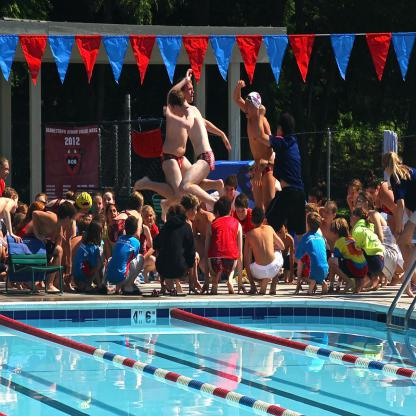face: (185, 83, 195, 104), (103, 193, 114, 211), (236, 204, 248, 220), (94, 196, 104, 215), (324, 204, 334, 223), (355, 195, 366, 212), (169, 105, 183, 118), (245, 101, 255, 119), (367, 187, 378, 203), (190, 204, 199, 222), (20, 206, 30, 222), (66, 216, 76, 232), (145, 210, 155, 226), (226, 184, 236, 200), (350, 211, 360, 227), (349, 186, 359, 202), (37, 196, 47, 211), (308, 196, 318, 211), (109, 206, 118, 222), (2, 162, 9, 180), (101, 221, 109, 236), (249, 171, 257, 186), (277, 222, 285, 237), (383, 163, 391, 178), (83, 204, 92, 217), (13, 195, 19, 214), (331, 225, 338, 241), (139, 198, 145, 214), (98, 227, 105, 240), (277, 124, 283, 138), (86, 214, 91, 225), (88, 214, 94, 223)
